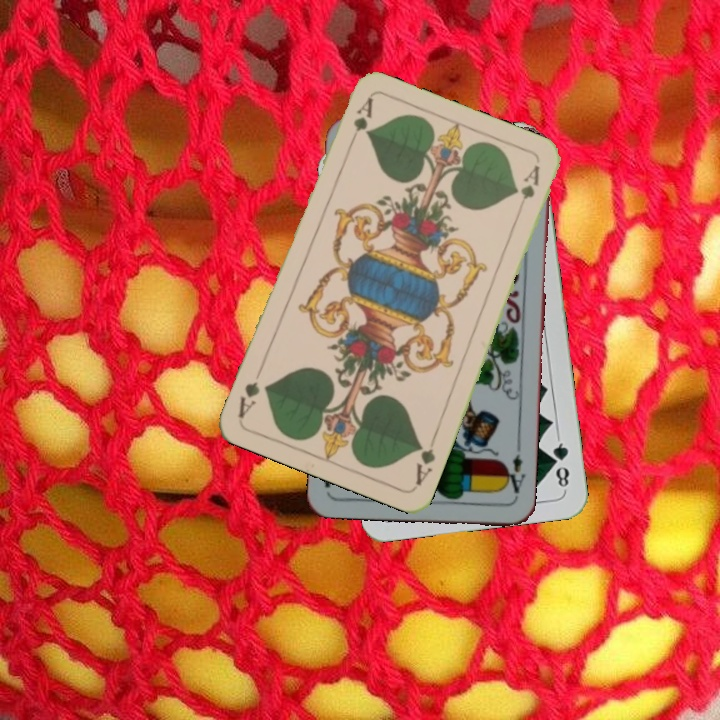EA: (500, 441, 528, 496)
G8: (547, 434, 572, 493)
GA: (344, 94, 376, 150), (411, 431, 439, 488)
